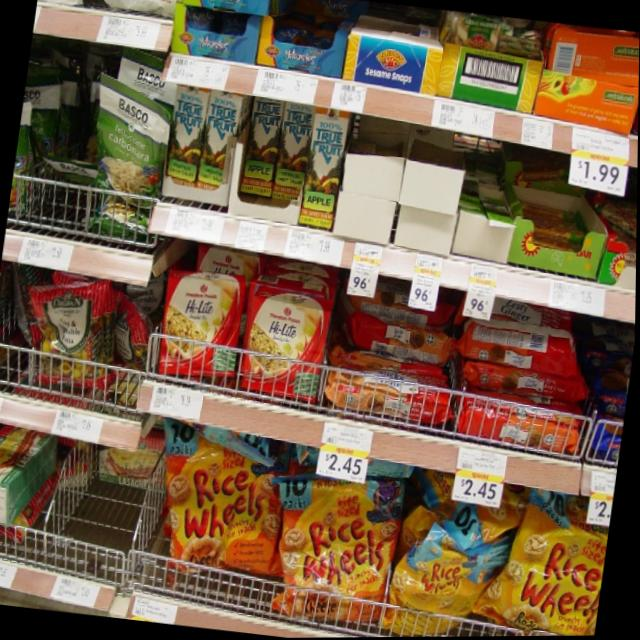q37: (499, 488, 614, 637)
